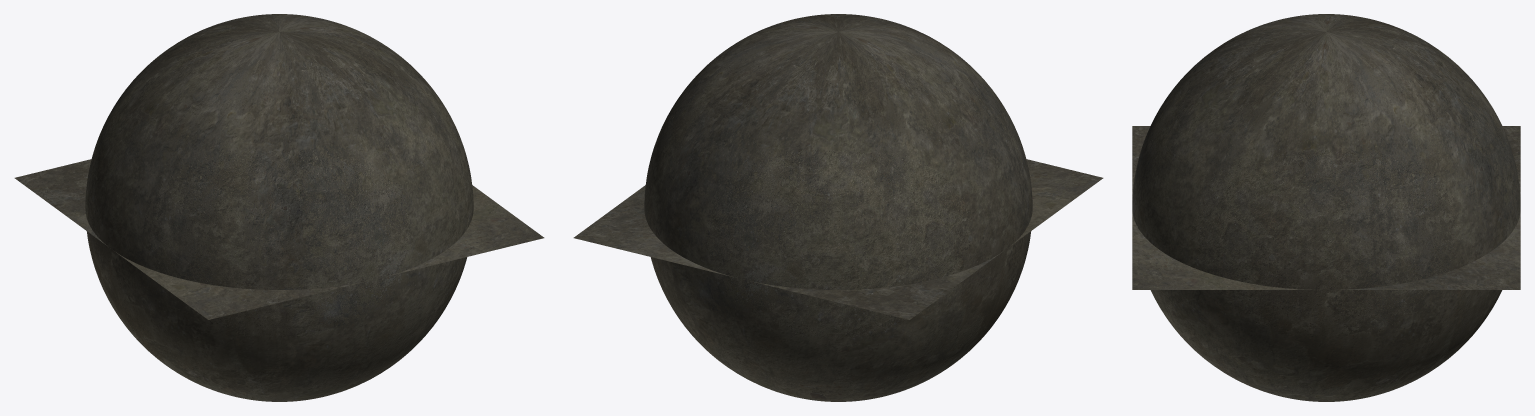
File: plastered_stone_wall_2k.fbx
3 renders of one model, left to right at view 1: azimuth 30°, elevation 25°; view 2: azimuth 150°, elevation 25°; view 3: azimuth 270°, elevation 25°, orthographic.
Visible parts, largest first — view 1: Sphere, Plane; view 2: Sphere, Plane; view 3: Sphere, Plane.
Part boxes in pixels (x1,y1,x2,y2): Sphere: [85, 14, 473, 401]; Plane: [14, 159, 544, 319]; Sphere: [644, 14, 1032, 401]; Plane: [573, 159, 1103, 319]; Sphere: [1132, 14, 1520, 401]; Plane: [1132, 126, 1520, 289].
Size of the model in its own units: 250 by 250 by 250.
Materials: 1 (1 with a texture image).
